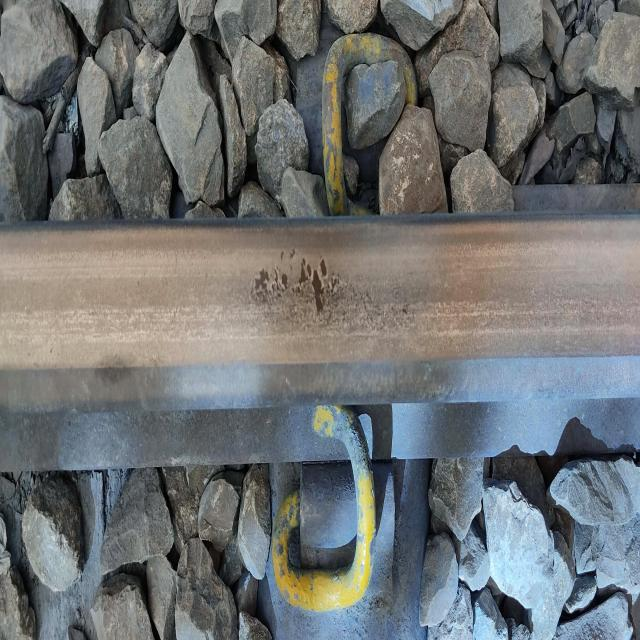Good Fasteners: (265, 385, 419, 630), (289, 35, 424, 205)
